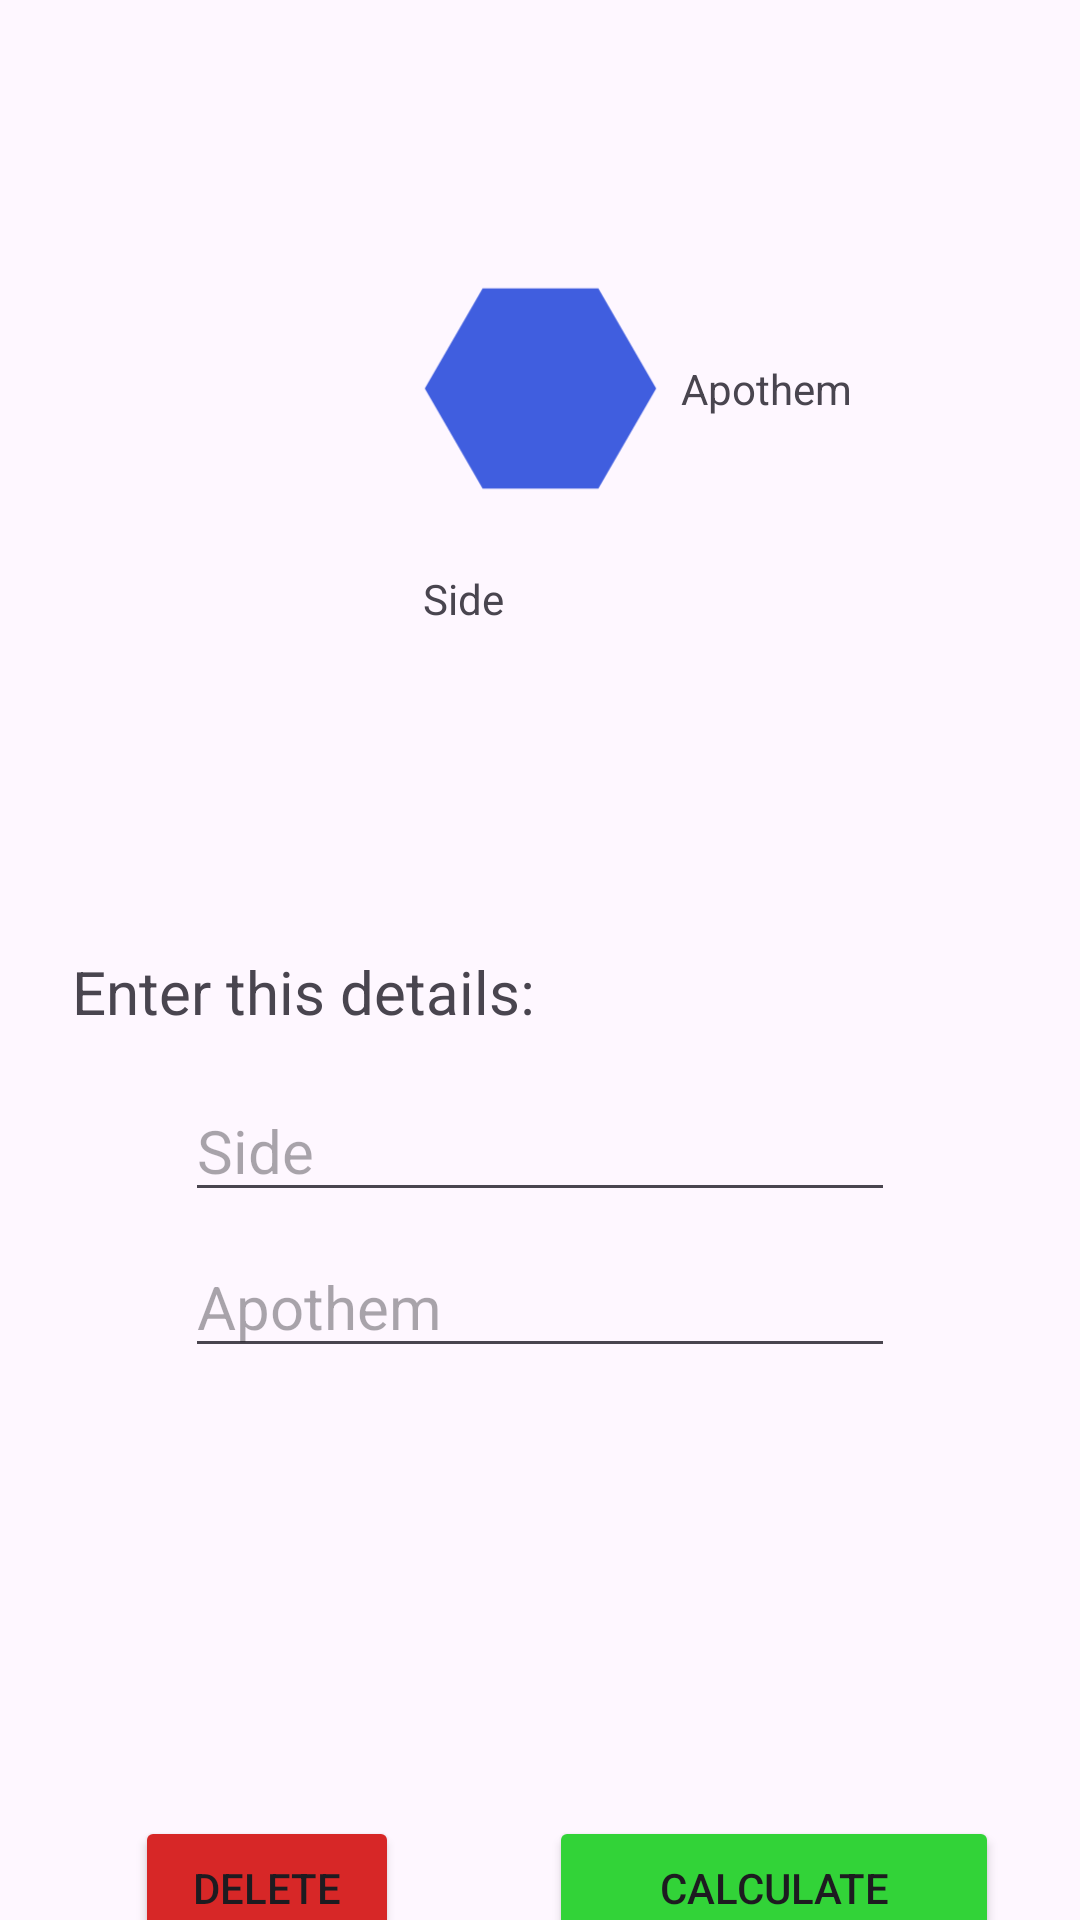

Screen size 1080px×1920px. Icon name, then its center in pixels as [x,y]:
hexagon: [540,388]
